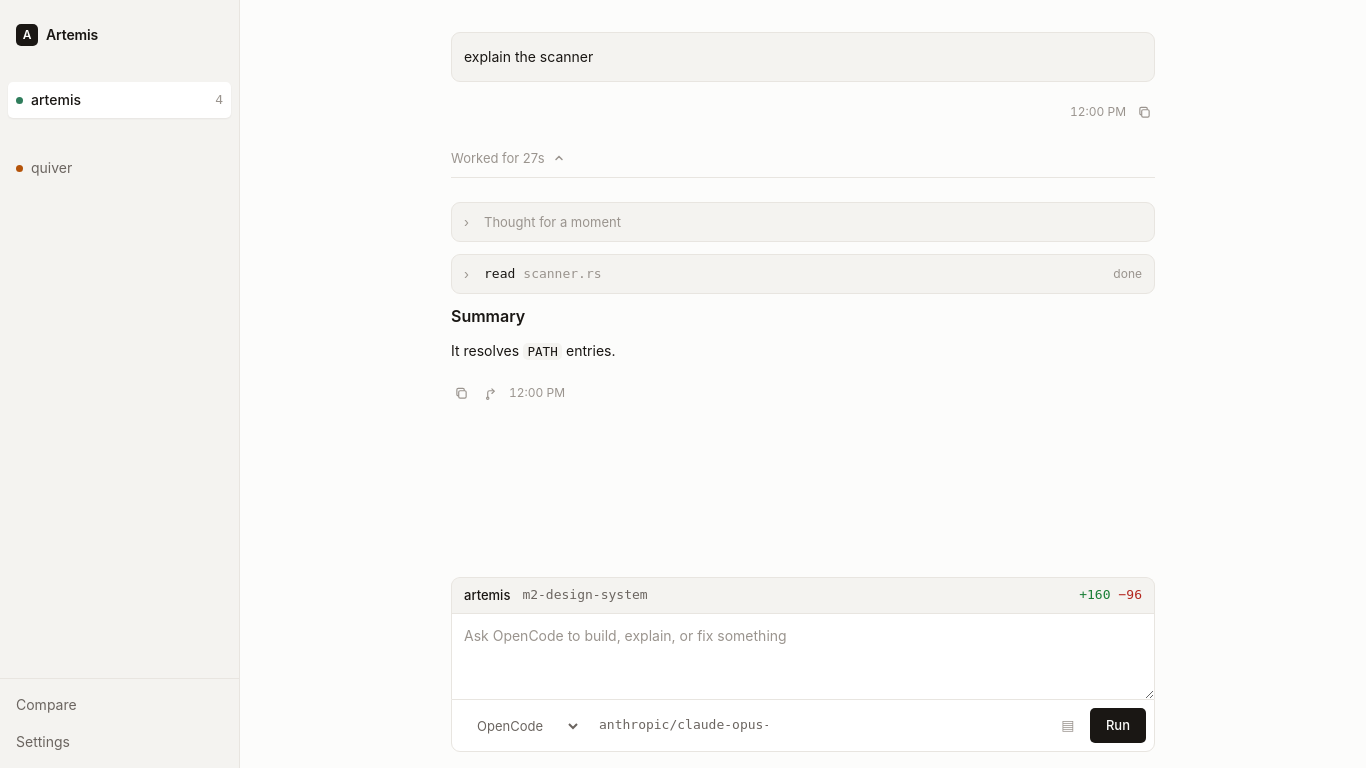
Test: transcript rendering › collapses reasoning behind a header
Expected: the button "artemis 4" is shown, [8,82,231,118]
Click the button "› Thought for a moment" at (552, 222), box [452,203,1154,241]
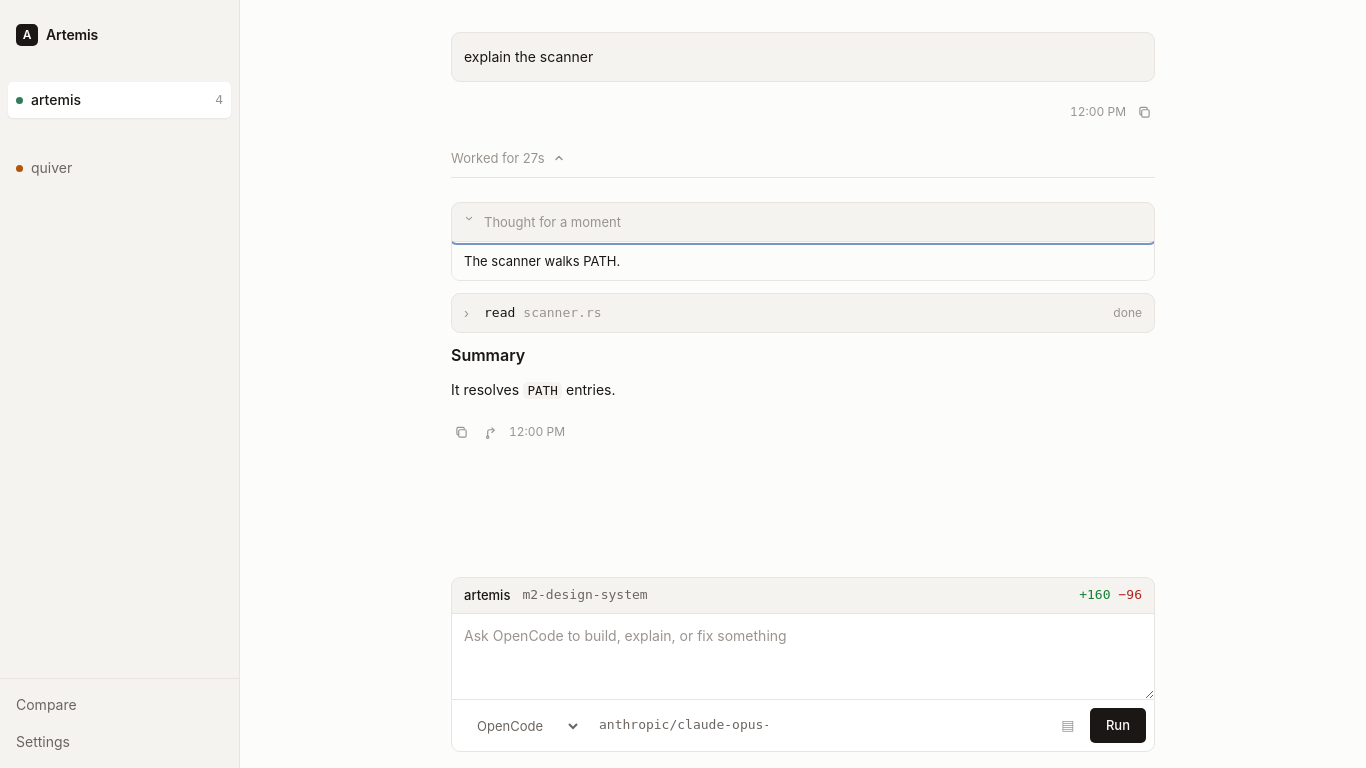
Expected: the element with test id "segment-reasoning" shows "The scanner walks PATH.", [464,253,620,269]
